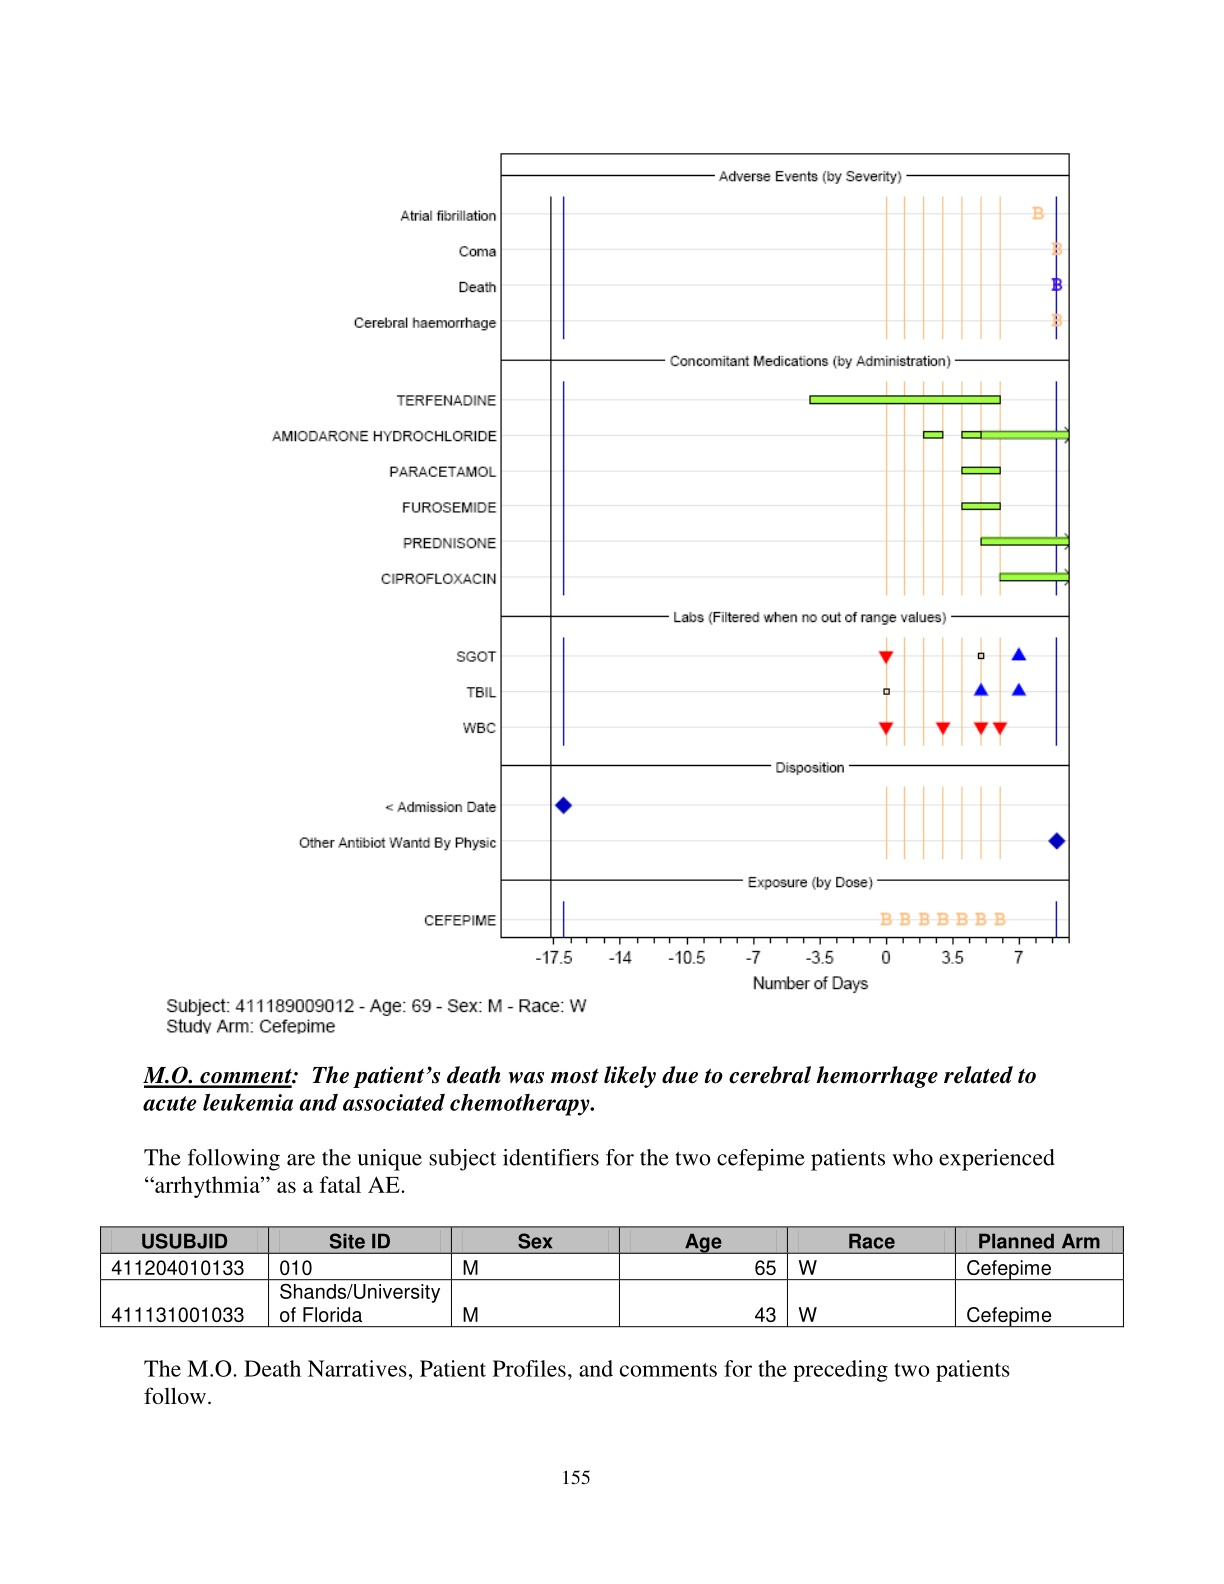full_lined: (98, 1225, 1125, 1329)
